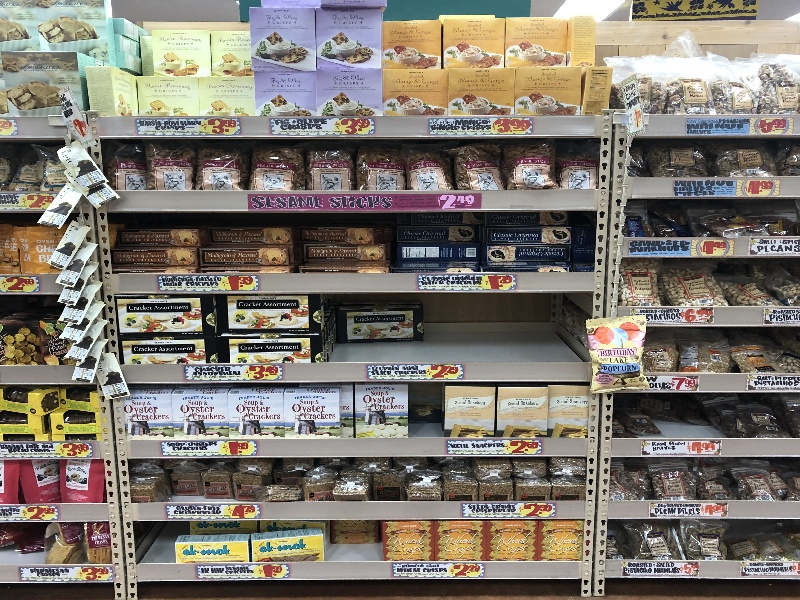void: (328, 300, 587, 354), (652, 397, 731, 442), (330, 524, 379, 558)
